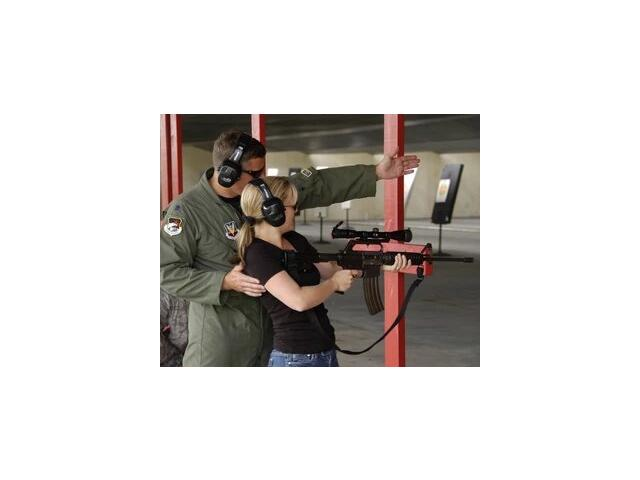rifle: (278, 237, 475, 316)
